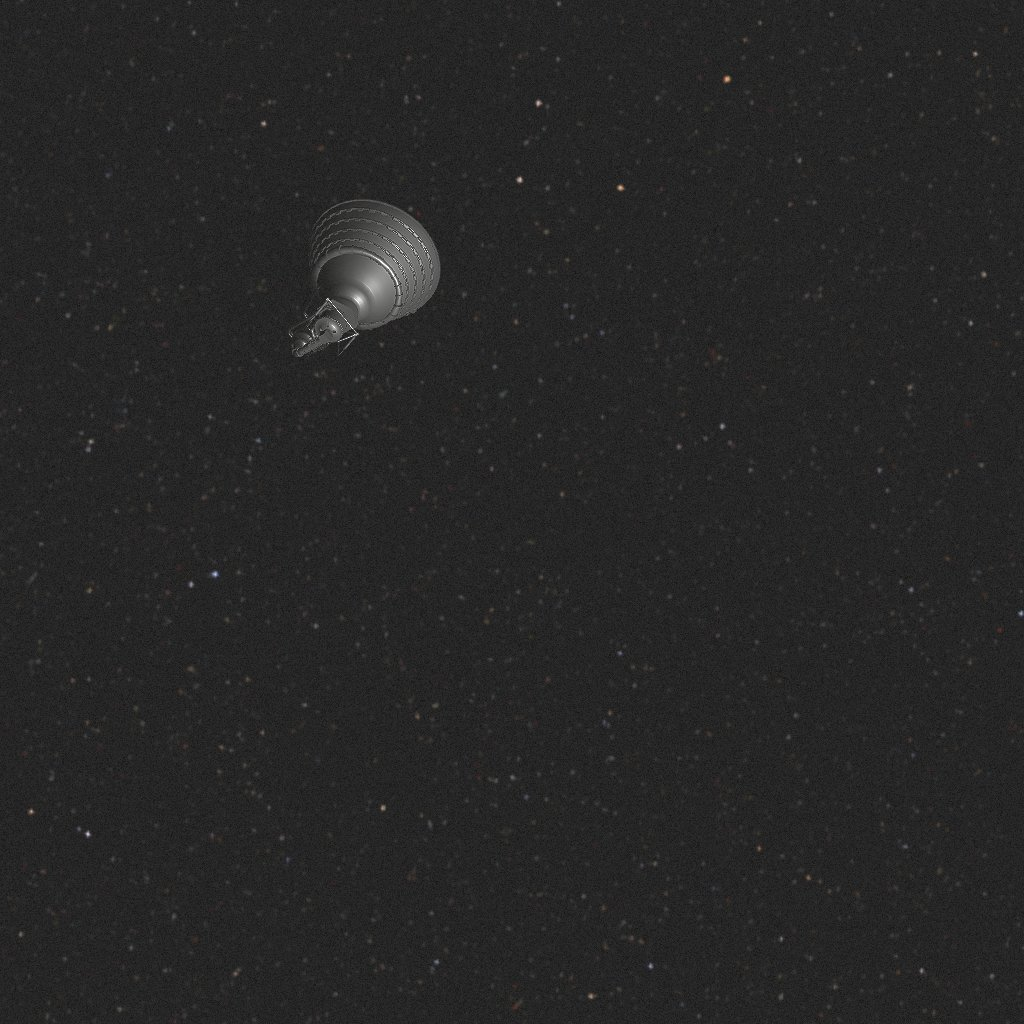debris: (278, 216, 428, 363)
